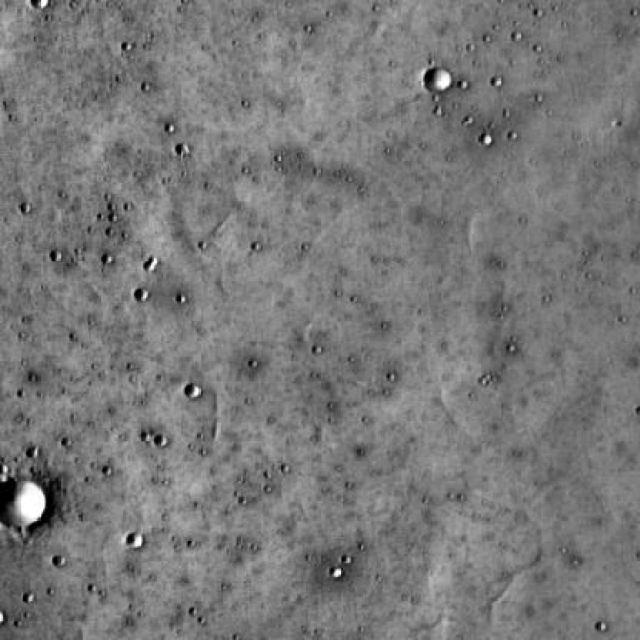crater: (0, 480, 52, 527), (426, 68, 452, 92)
